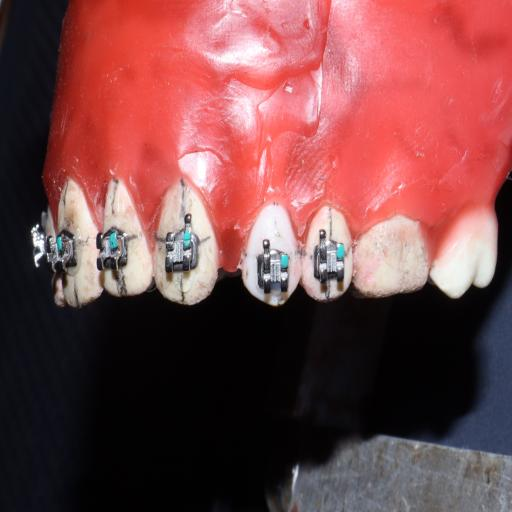correct_brace: (238, 194, 303, 317), (313, 226, 347, 295)
incorrect_brace: (253, 234, 291, 296)
